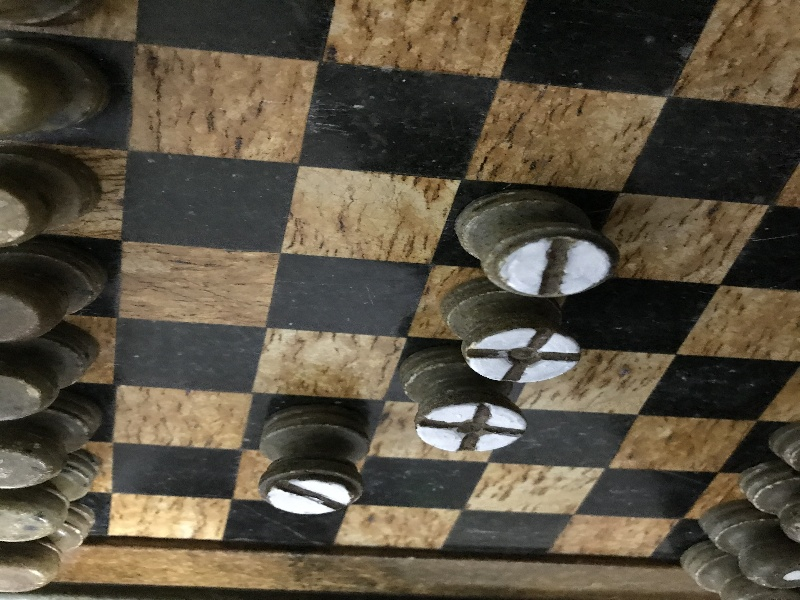WhiteBishop: (441, 280, 580, 384), (400, 353, 526, 451)
WhiteRook: (455, 193, 620, 297), (258, 408, 370, 514)
